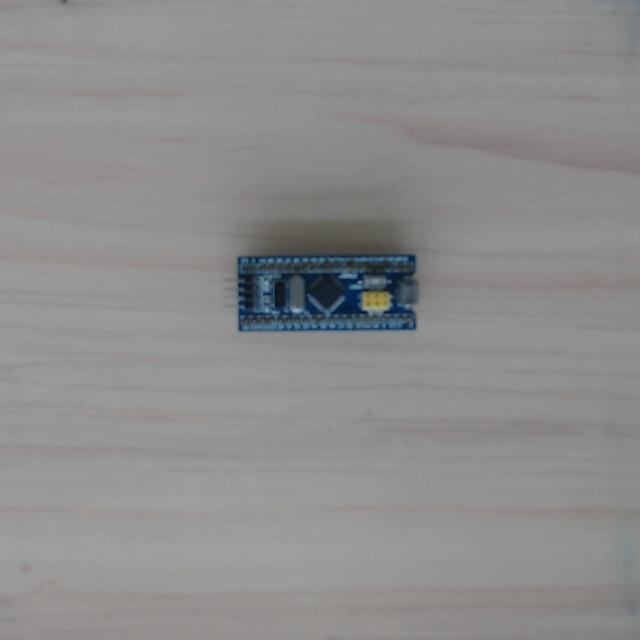STM32-Bluepill: (238, 254, 418, 331)
